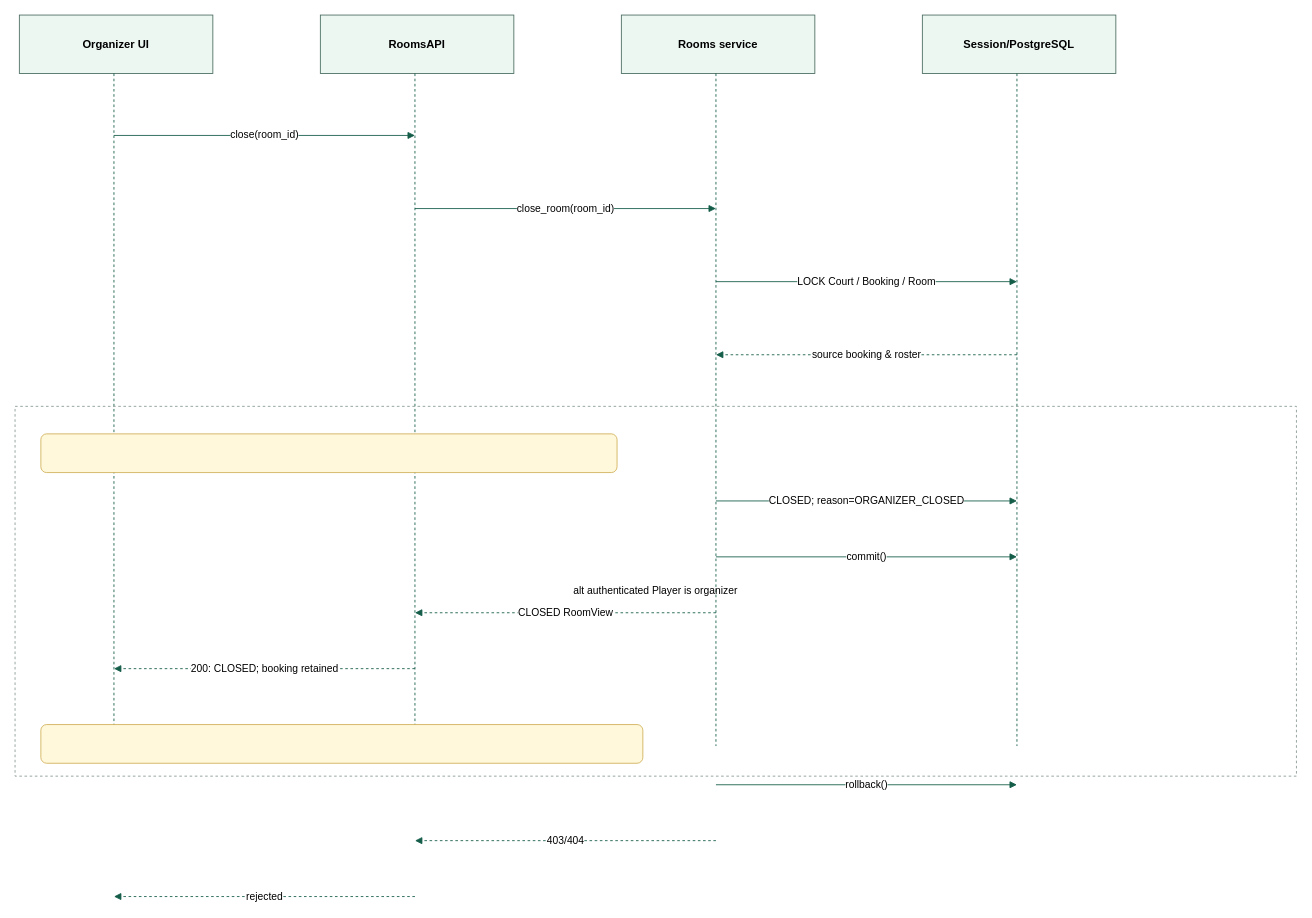
Image size: 1312x918. Some labels were removed from this diagram. The centre of each missing label's shape, as x and y in pixels:
"else Unmet guard / conflict" goes at [341,743].
"Success / eligibility satisfied" goes at [328,453].
